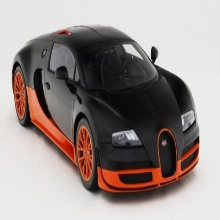no damage: (13, 25, 200, 192)
